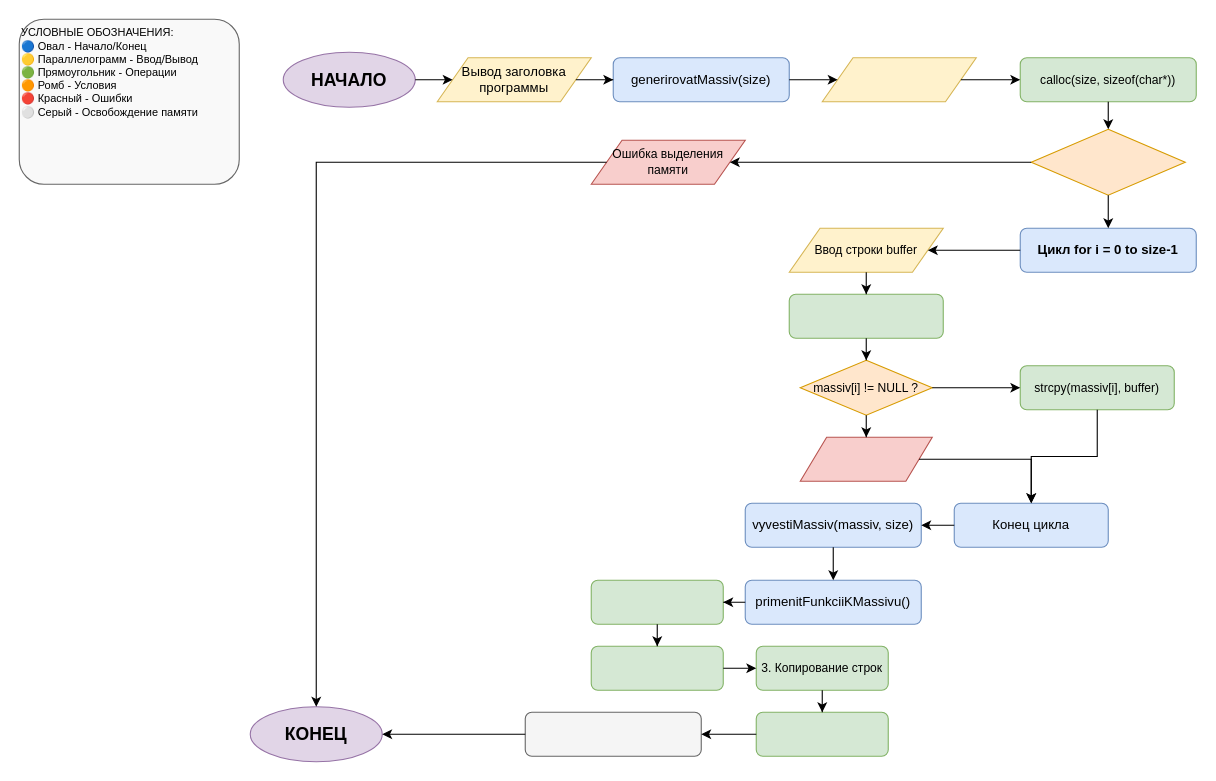
This 1216x781 diagram has some shape labels left out. Here are the shapes that lost their labels. From the top down, the box of each, then its label:
(821, 57, 976, 102): Ввод количества строк
(1030, 128, 1185, 195): massiv != NULL ?
(788, 293, 943, 338): calloc() для строки
(799, 436, 932, 481): Ошибка - пропуск строки
(590, 579, 723, 624): 1. Длины строк (strlen)
(590, 645, 723, 690): 2. Сравнение строк
(524, 711, 701, 756): osvoboditMassiv(massiv, size)
(755, 711, 888, 756): 4. Конкатенация строк
